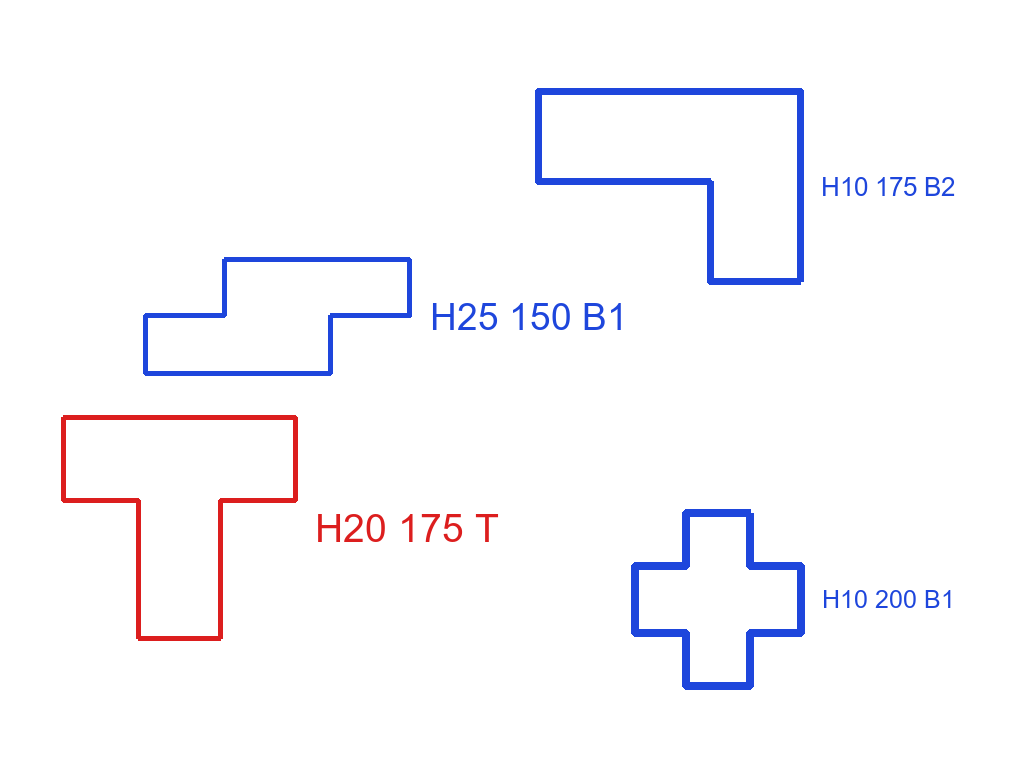shape: (59, 413, 300, 643), (533, 86, 806, 287), (141, 255, 414, 378), (628, 507, 808, 691)
text: (428, 301, 630, 332), (313, 512, 501, 544), (819, 175, 957, 198), (820, 588, 957, 610)
